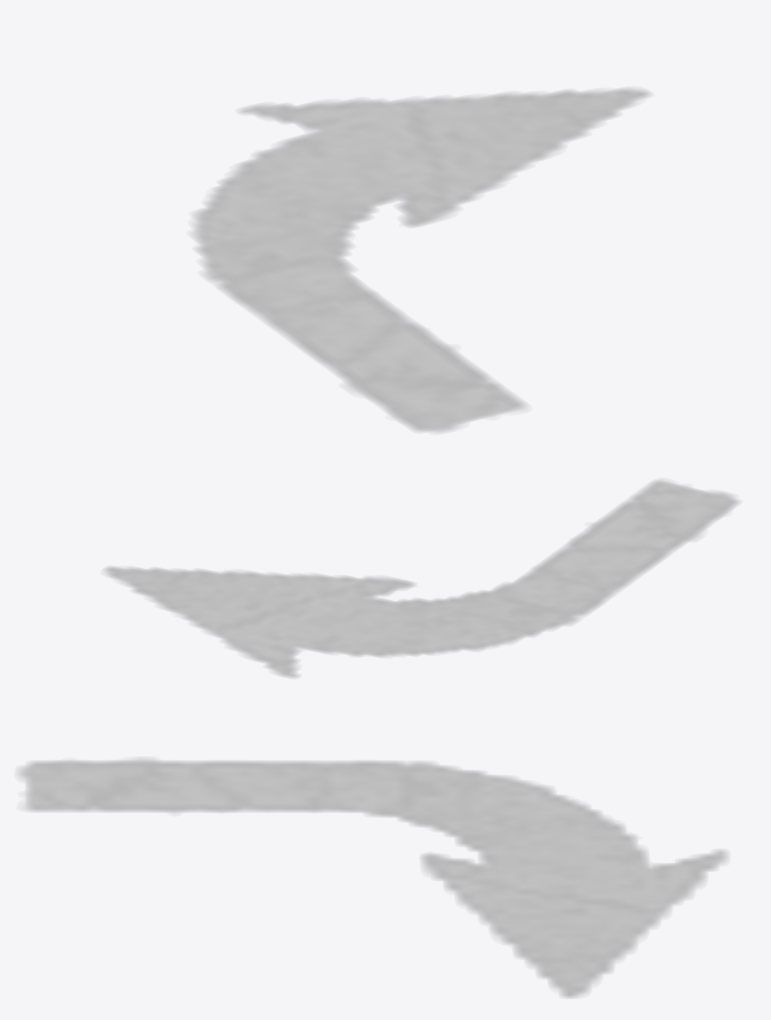
File: decal_arrowturnright.glb
3 views of the same model, one above another, from view 1: azimuth 30°, elevation 25°; view 2: azimuth 150°, elevation 25°; view 3: azimuth 270°, elevation 25° (orthographic). The views are drawn at different scales.
Visible parts, largest first — view 1: Decal_ArrowTurnRight; view 2: Decal_ArrowTurnRight; view 3: Decal_ArrowTurnRight.
Part boxes in pixels (x1,y1,x2,y2): Decal_ArrowTurnRight: [194, 88, 649, 431]; Decal_ArrowTurnRight: [105, 481, 738, 677]; Decal_ArrowTurnRight: [19, 760, 726, 997].
Bounding box in the file's own units: 1.99 × 0 × 2.5.
Materials: 1 (1 with a texture image).
